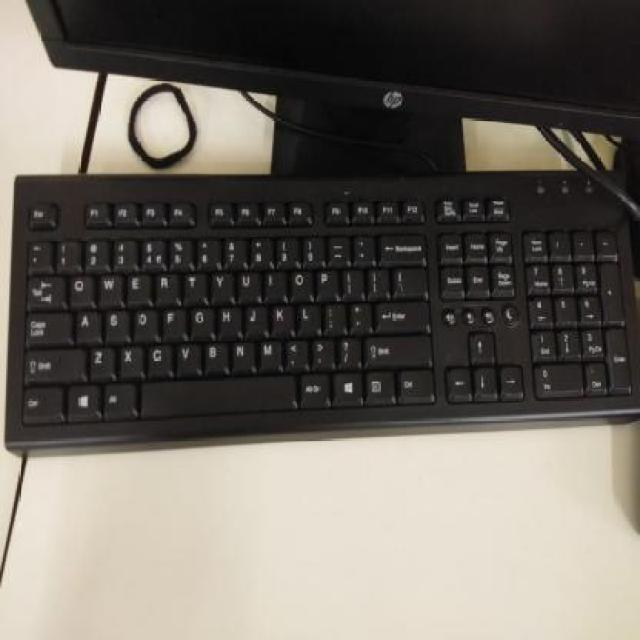keyboard: (3, 170, 640, 455)
